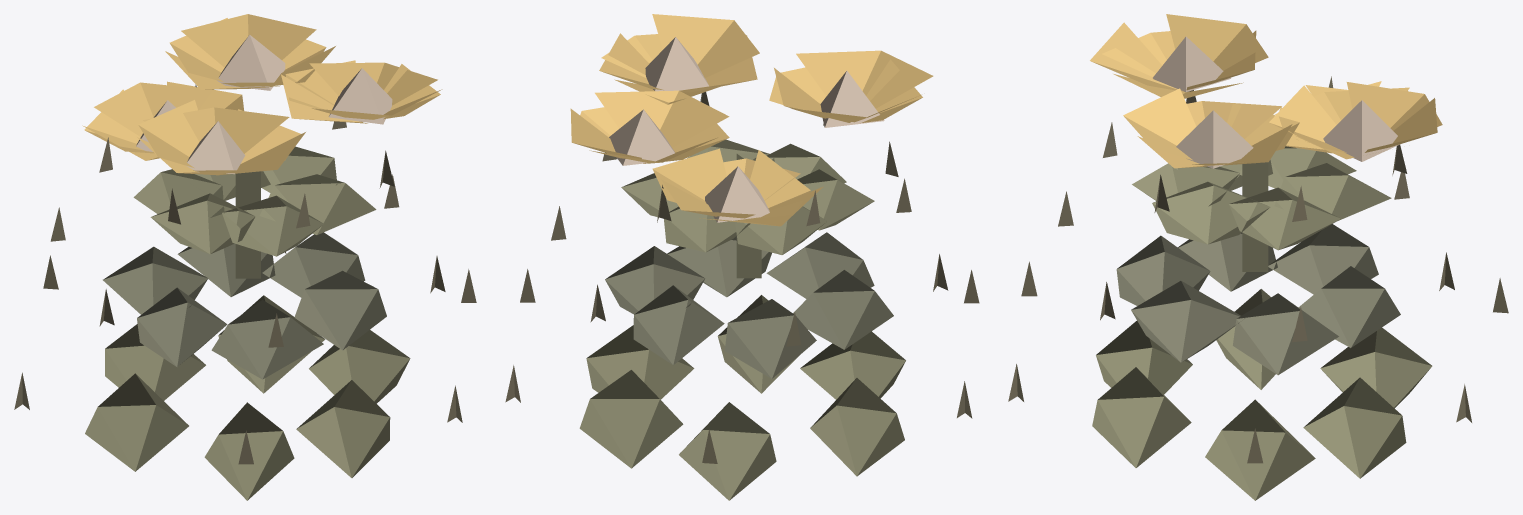
Rendered from cao.shamo__winter.glb.
3 views of the same model, side by side, from view 1: azimuth 30°, elevation 25°; view 2: azimuth 150°, elevation 25°; view 3: azimuth 270°, elevation 25° (orthographic). The views are drawn at different scales.
Visible parts, largest first — view 1: cao.shamo__winter; view 2: cao.shamo__winter; view 3: cao.shamo__winter.
Boxes of the visible parts, x1,y1,x2,y2 form: cao.shamo__winter: [14, 14, 476, 500]; cao.shamo__winter: [505, 14, 979, 500]; cao.shamo__winter: [1008, 14, 1508, 500].
Size of the model in its own units: 1.8 by 1.4 by 1.66.
